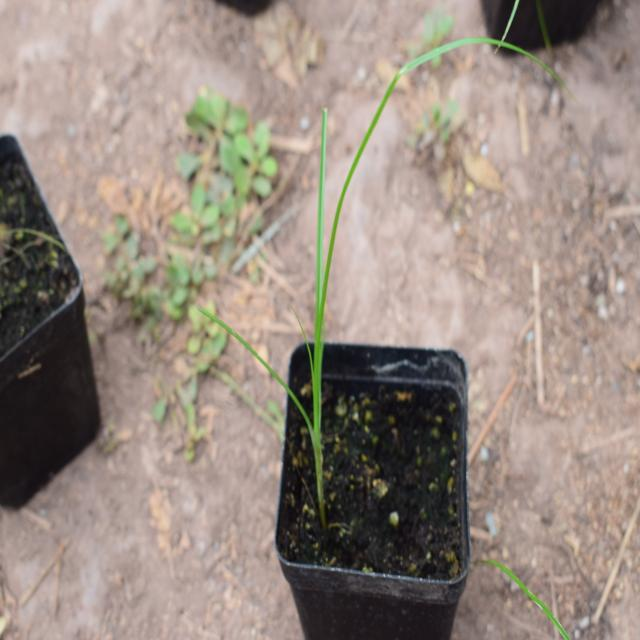sedge: (192, 38, 433, 521)
